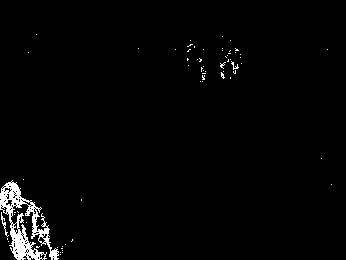person: (1, 182, 60, 260)
